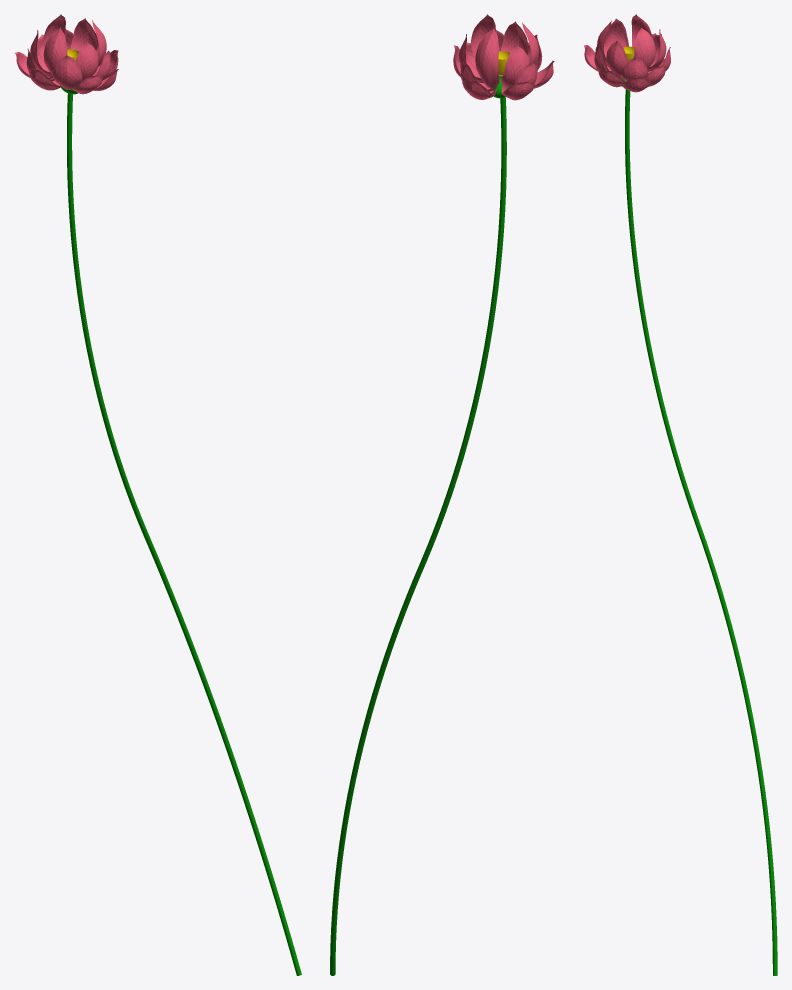
File: Lotus057.fbx
The picture shows the model from 3 angles, left to right: view 1: azimuth 30°, elevation 25°; view 2: azimuth 150°, elevation 25°; view 3: azimuth 330°, elevation 25°; orthographic projection. The views are drawn at different scales.
Parts seen in each view (by area): view 1: pCylinder5, nurbsToPoly16, nurbsToPoly21; view 2: pCylinder5, nurbsToPoly23, nurbsToPoly20, nurbsToPoly18; view 3: pCylinder5, nurbsToPoly22, nurbsToPoly18, nurbsToPoly20, nurbsToPoly13.
Part boxes in pixels (box(x1,y1,x2,y2)): pCylinder5: box(67, 93, 301, 975); nurbsToPoly16: box(53, 55, 82, 89); nurbsToPoly21: box(43, 27, 67, 75); pCylinder5: box(330, 97, 506, 975); nurbsToPoly23: box(475, 28, 499, 88); nurbsToPoly20: box(500, 45, 529, 88); nurbsToPoly18: box(498, 21, 528, 78); pCylinder5: box(625, 89, 777, 975); nurbsToPoly22: box(633, 28, 655, 69); nurbsToPoly18: box(606, 41, 627, 78); nurbsToPoly20: box(605, 18, 629, 50); nurbsToPoly13: box(621, 57, 648, 81).
Size of the model in its own units: 52.49 by 204 by 24.36.
